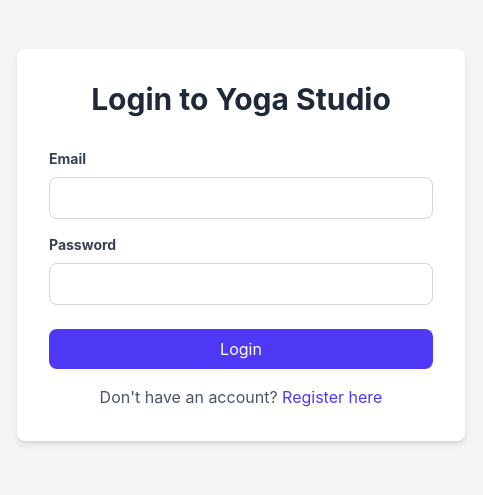
Test: Login › erreurs › affiche le message par défaut si l'erreur n'a pas de message serveur
Step 1. Type "user@test.com" into the field → (241, 198), box [49,177,433,219]
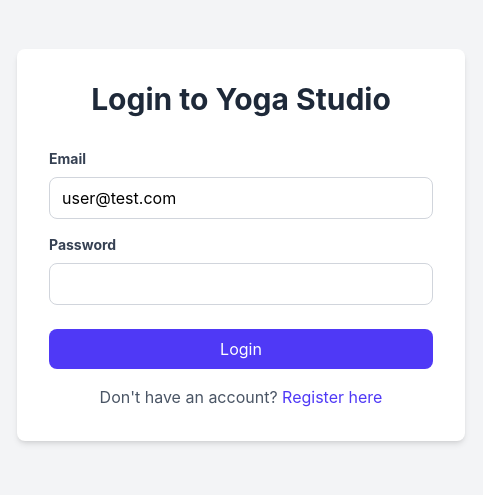
Step 2. Type "wrongpassword" into the password field → (241, 284), box [49,263,433,305]
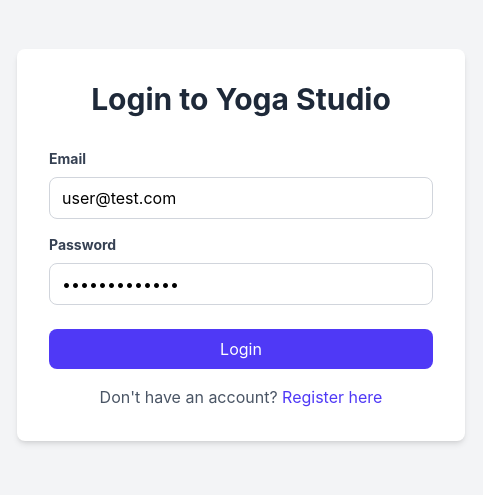
Step 3. Click the button "Login" → (241, 349), box [49,329,433,369]
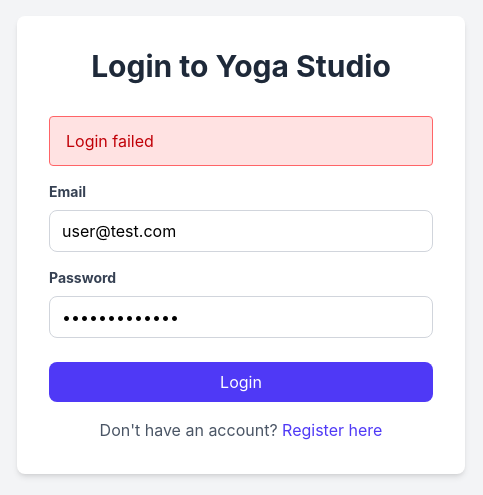
Result: the text "Login failed" is shown at [49,116,433,166]
